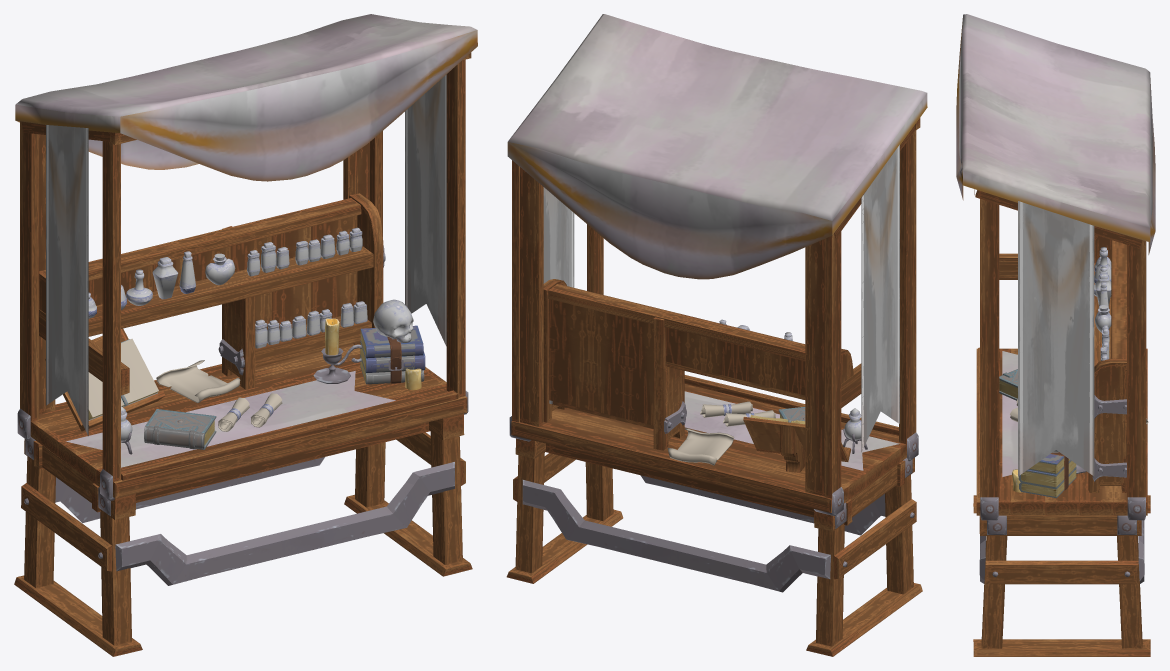
The model's file is Stall_Potions.fbx.
3 views of the same model, side by side, from view 1: azimuth 30°, elevation 25°; view 2: azimuth 150°, elevation 25°; view 3: azimuth 270°, elevation 25° (orthographic). The views are drawn at different scales.
Visible parts, largest first — view 1: Stall_Potions; view 2: Stall_Potions; view 3: Stall_Potions.
Part boxes in pixels (x1,y1,x2,y2): Stall_Potions: (14,14,477,656); Stall_Potions: (506,14,927,656); Stall_Potions: (956,14,1155,656).
Size of the model in its own units: 184 by 266 by 98.18.
